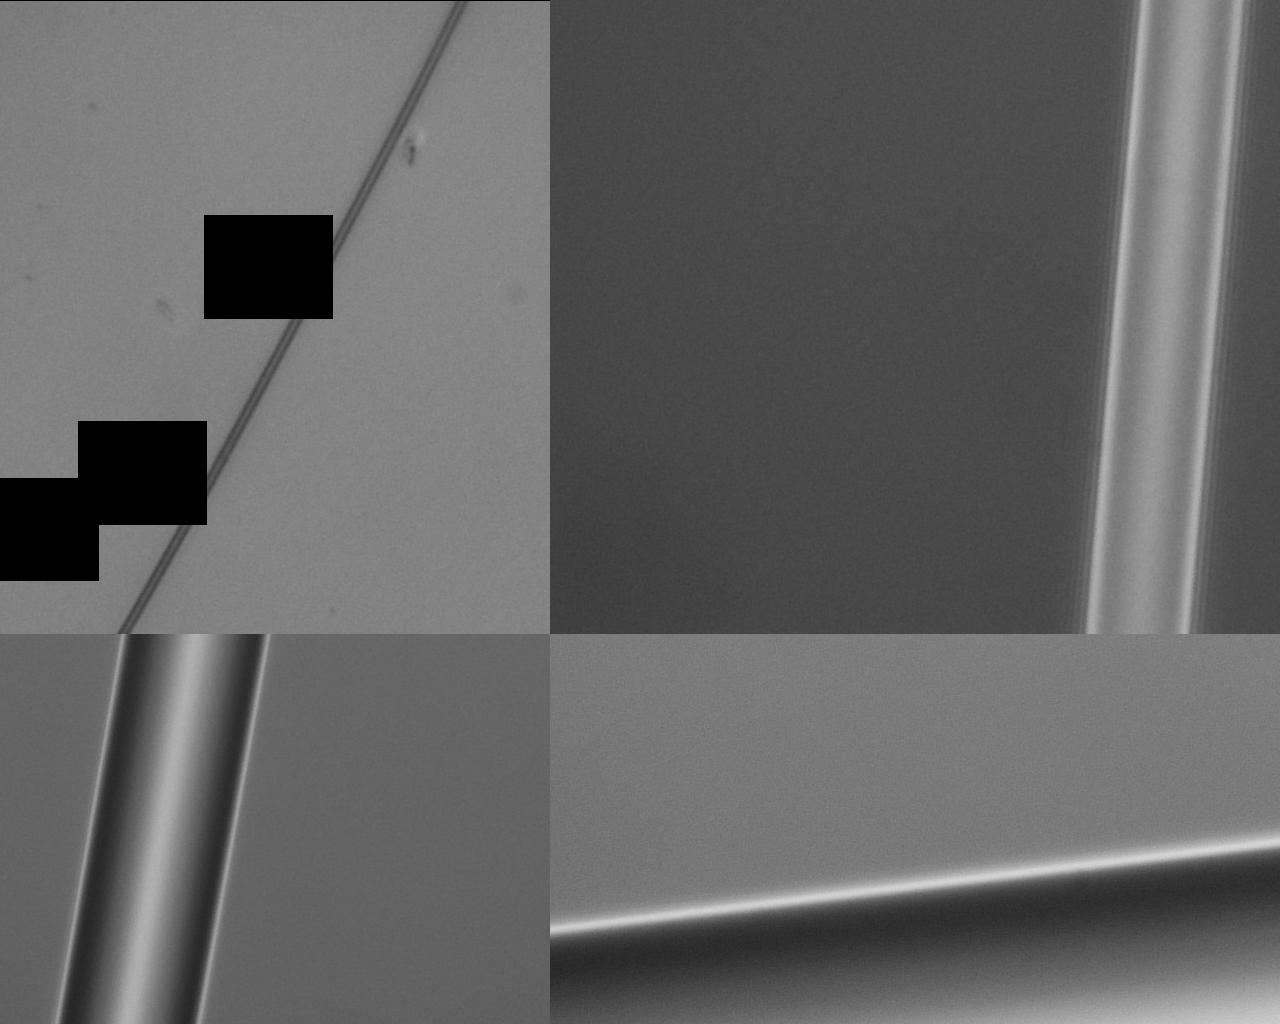fiber: (0, 107, 1280, 837)
